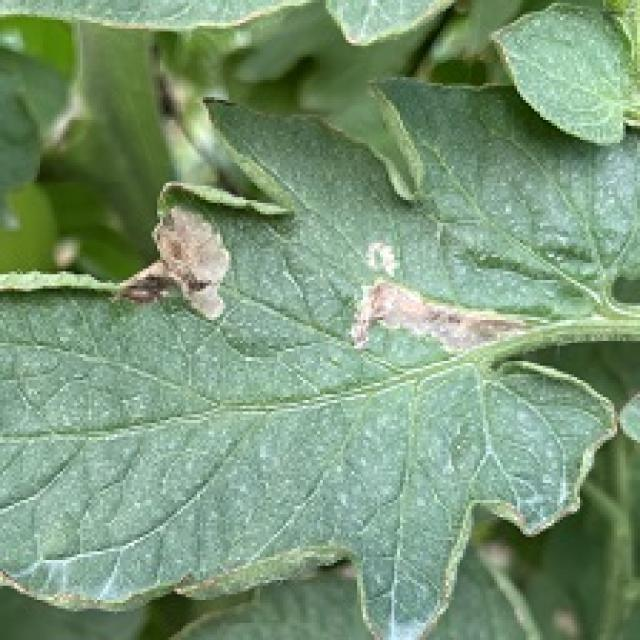Tuta absoluta: (117, 196, 242, 321), (354, 278, 528, 356), (361, 237, 403, 276)
